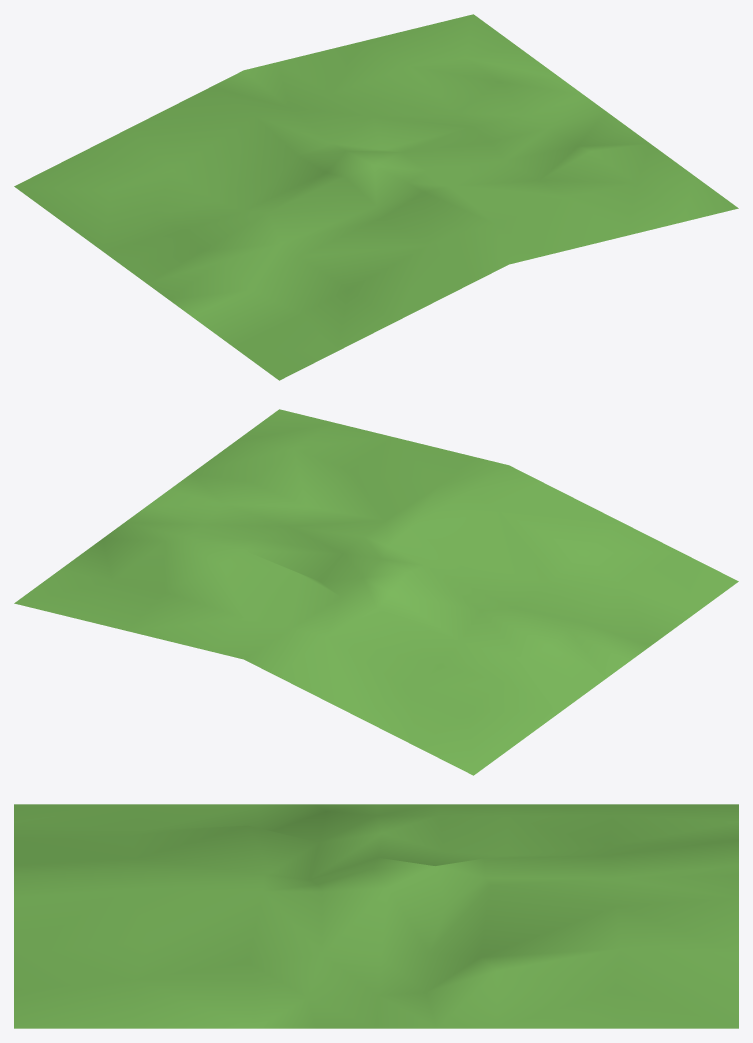
File: ground_02.fbx
3 views of the same model, one above another, from view 1: azimuth 30°, elevation 25°; view 2: azimuth 150°, elevation 25°; view 3: azimuth 270°, elevation 25° (orthographic). The views are drawn at different scales.
Parts seen in each view (by area): view 1: ground_02; view 2: ground_02; view 3: ground_02.
Boxes of the visible parts, <box> form: ground_02: <box>14,14,738,380</box>; ground_02: <box>14,409,738,775</box>; ground_02: <box>14,804,738,1028</box>.
Size of the model in its own units: 1600 by 240 by 1600.
